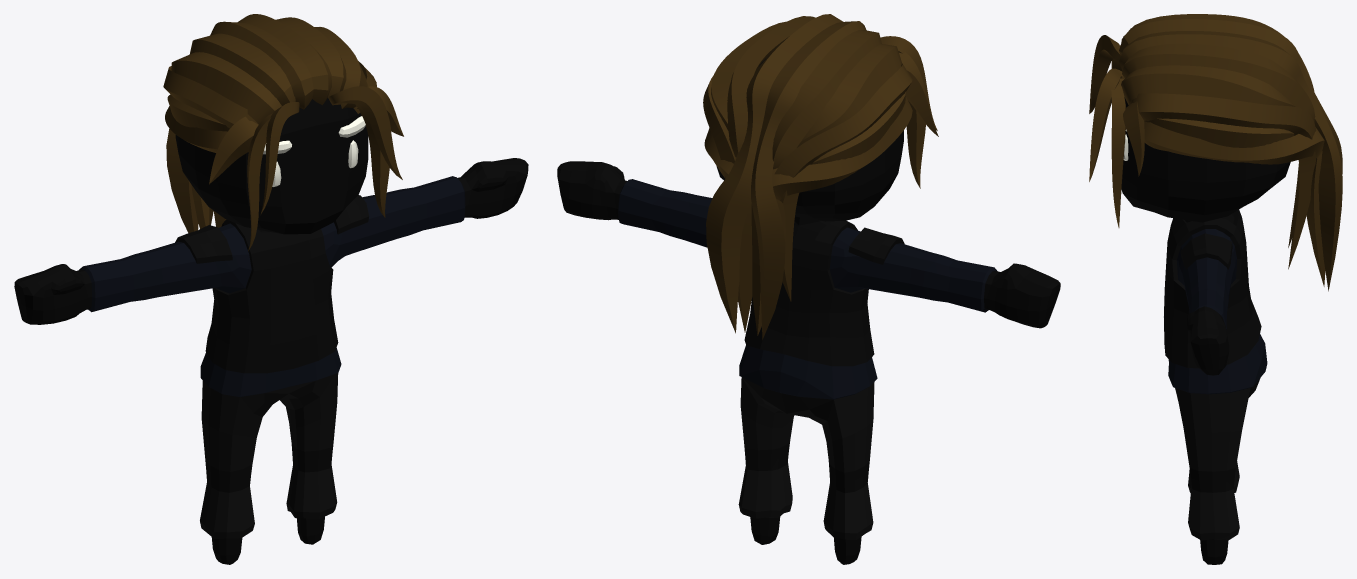
The model's file is Player.obj.
The picture shows the model from 3 angles, left to right: view 1: azimuth 30°, elevation 25°; view 2: azimuth 150°, elevation 25°; view 3: azimuth 270°, elevation 25°; orthographic projection. The views are drawn at different scales.
Parts seen in each view (by area): view 1: Body_Cube.004; view 2: Body_Cube.004; view 3: Body_Cube.004.
Boxes of the visible parts, x1=… form: Body_Cube.004: x1=14, y1=14, x2=528, y2=564; Body_Cube.004: x1=557, y1=14, x2=1060, y2=564; Body_Cube.004: x1=1089, y1=14, x2=1342, y2=564.
Size of the model in its own units: 3.24 by 3.2 by 1.42.
